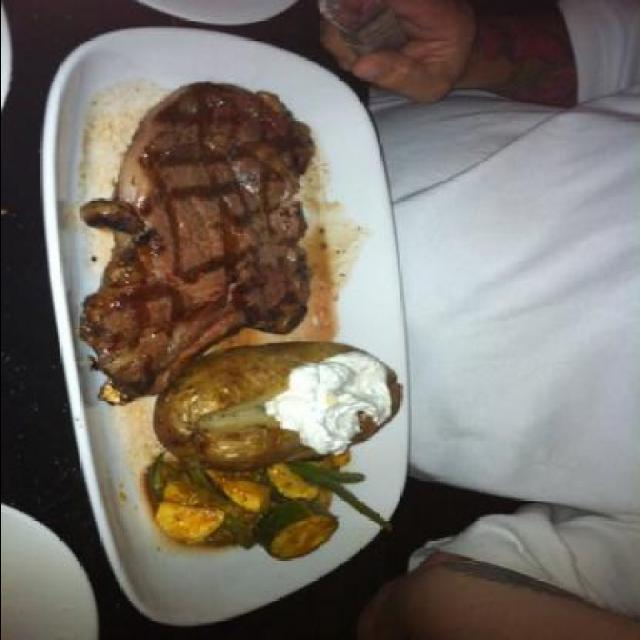Steak: (67, 48, 365, 360)
